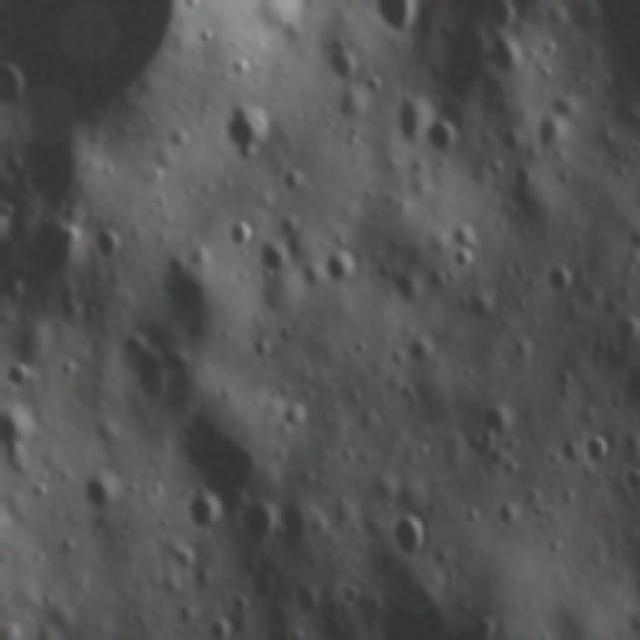crater: (368, 543, 454, 640), (112, 324, 170, 407), (215, 100, 274, 163), (26, 218, 80, 284), (388, 90, 430, 148), (238, 498, 279, 551), (365, 0, 422, 38), (78, 465, 120, 512), (184, 489, 221, 537), (388, 512, 426, 557), (0, 58, 26, 118), (320, 249, 357, 289), (422, 117, 458, 158), (90, 225, 124, 268), (474, 404, 512, 442), (253, 238, 289, 278), (316, 46, 356, 82), (539, 262, 575, 302), (532, 109, 568, 149), (401, 332, 436, 368), (389, 270, 422, 308), (606, 313, 640, 349), (578, 432, 610, 468), (484, 0, 518, 32), (290, 582, 322, 615), (224, 217, 256, 249), (248, 565, 274, 601), (492, 496, 519, 530), (506, 158, 534, 190), (282, 398, 308, 431), (449, 222, 477, 252), (336, 580, 362, 612), (507, 333, 533, 365), (5, 364, 30, 394), (249, 332, 271, 366), (446, 246, 474, 272), (278, 170, 304, 198), (306, 511, 328, 542), (462, 503, 478, 528), (37, 590, 54, 613)
